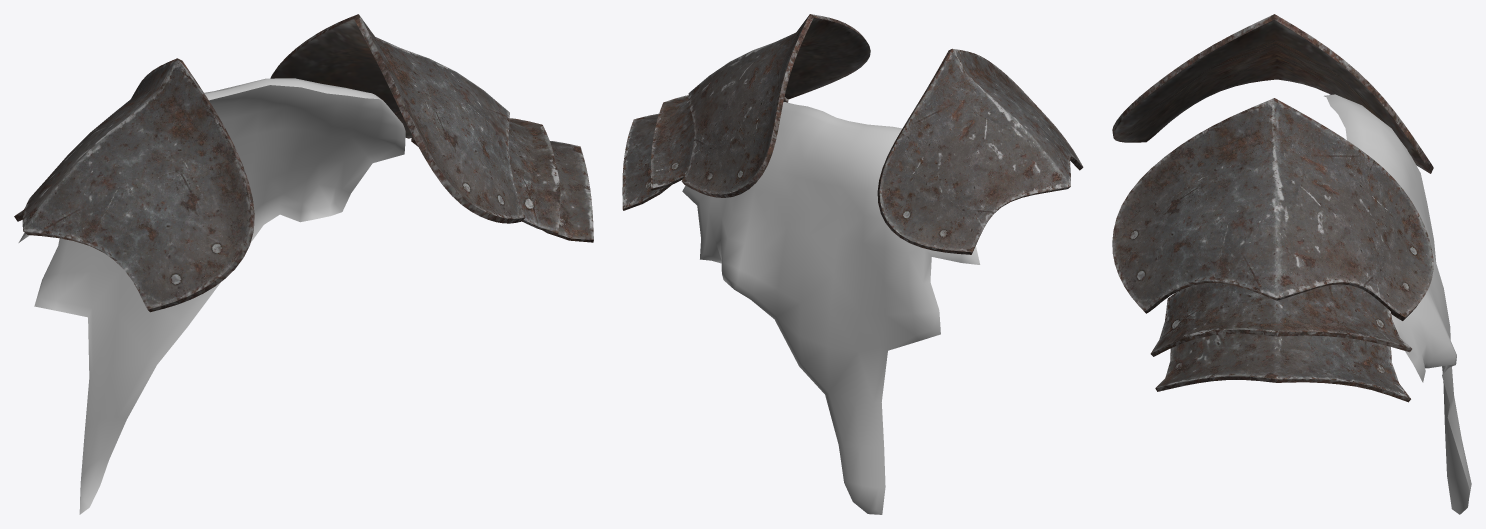
The model's file is sk_gb_uruk_cape_pauldron_light_b.fbx.
3 views of the same model, side by side, from view 1: azimuth 30°, elevation 25°; view 2: azimuth 150°, elevation 25°; view 3: azimuth 270°, elevation 25° (orthographic). The views are drawn at different scales.
Parts seen in each view (by area): view 1: sk_gb_uruk_cape_pauldron_light_b.pauld, sk_gb_uruk_cape_pauldron_light_b.cape; view 2: sk_gb_uruk_cape_pauldron_light_b.cape, sk_gb_uruk_cape_pauldron_light_b.pauld; view 3: sk_gb_uruk_cape_pauldron_light_b.pauld, sk_gb_uruk_cape_pauldron_light_b.cape.
Boxes of the visible parts, x1,y1,x2,y2 form: sk_gb_uruk_cape_pauldron_light_b.pauld: (14,14,593,312); sk_gb_uruk_cape_pauldron_light_b.cape: (18,78,405,514); sk_gb_uruk_cape_pauldron_light_b.cape: (682,102,980,514); sk_gb_uruk_cape_pauldron_light_b.pauld: (622,14,1083,254); sk_gb_uruk_cape_pauldron_light_b.pauld: (1112,14,1433,402); sk_gb_uruk_cape_pauldron_light_b.cape: (1324,94,1471,514).
Bounding box in the file's own units: 0.7108 × 0.4186 × 0.6389.
